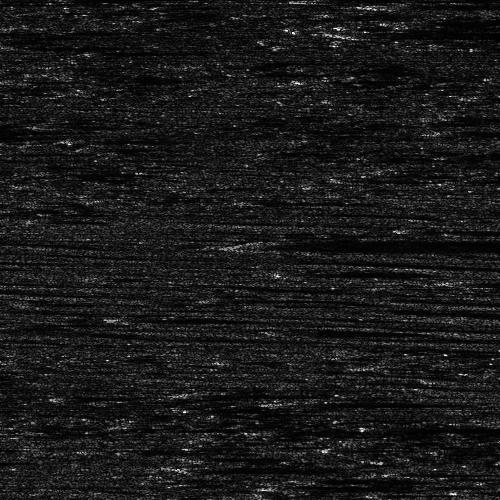object: (313, 26, 406, 39), (367, 15, 460, 28), (340, 1, 433, 8), (165, 462, 218, 473), (177, 455, 218, 460)
shadow: (360, 26, 500, 39), (192, 462, 349, 473), (0, 123, 87, 136), (414, 15, 500, 28), (387, 1, 500, 8), (197, 455, 278, 460)
